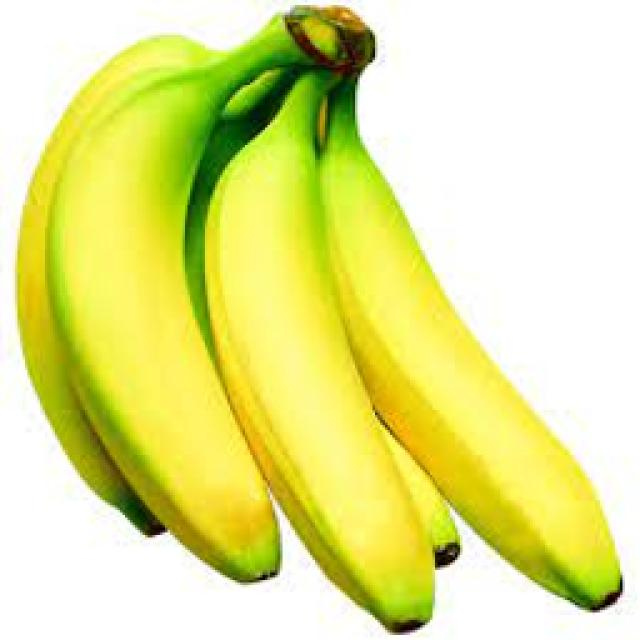Fresh_Banana: (27, 13, 629, 620)
